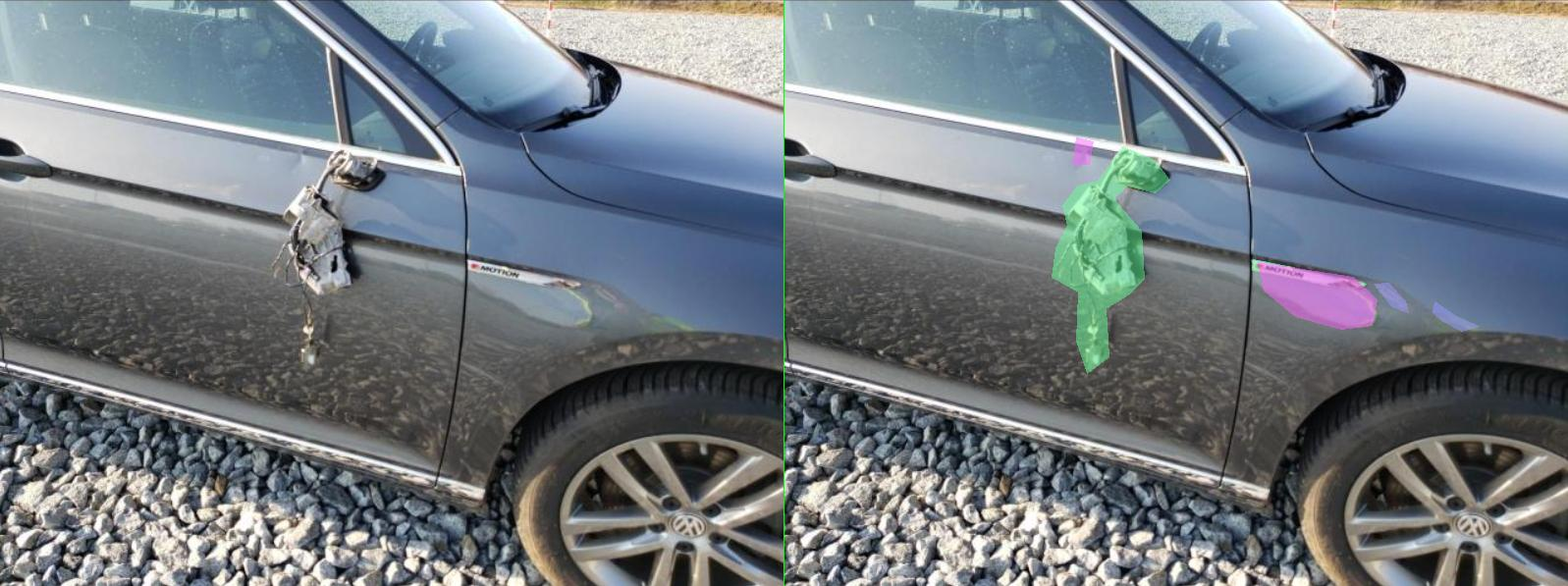Broken part: (534, 146, 770, 373), (935, 259, 1163, 291)
Dent: (947, 262, 1185, 329), (576, 137, 617, 165)
Scratch: (1297, 301, 1389, 331), (1179, 283, 1248, 312)
